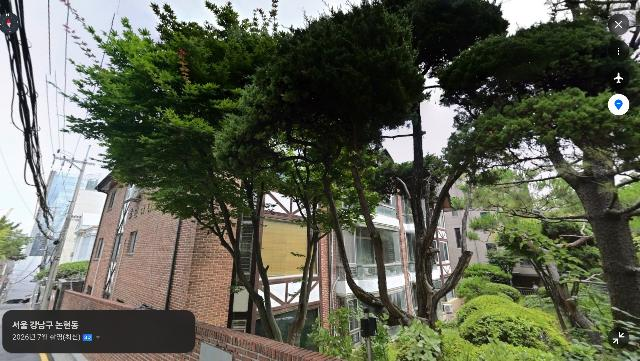other: (206, 0, 508, 339), (57, 0, 325, 348), (427, 0, 639, 361)
